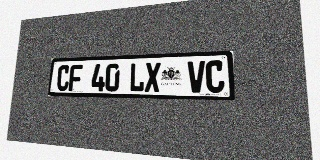0: (105, 63, 120, 92)
4: (91, 64, 106, 91)
C: (206, 60, 225, 93), (56, 65, 70, 91)
F: (68, 65, 83, 91)
L: (129, 63, 145, 92)
V: (188, 61, 205, 93)
X: (144, 62, 161, 92)
